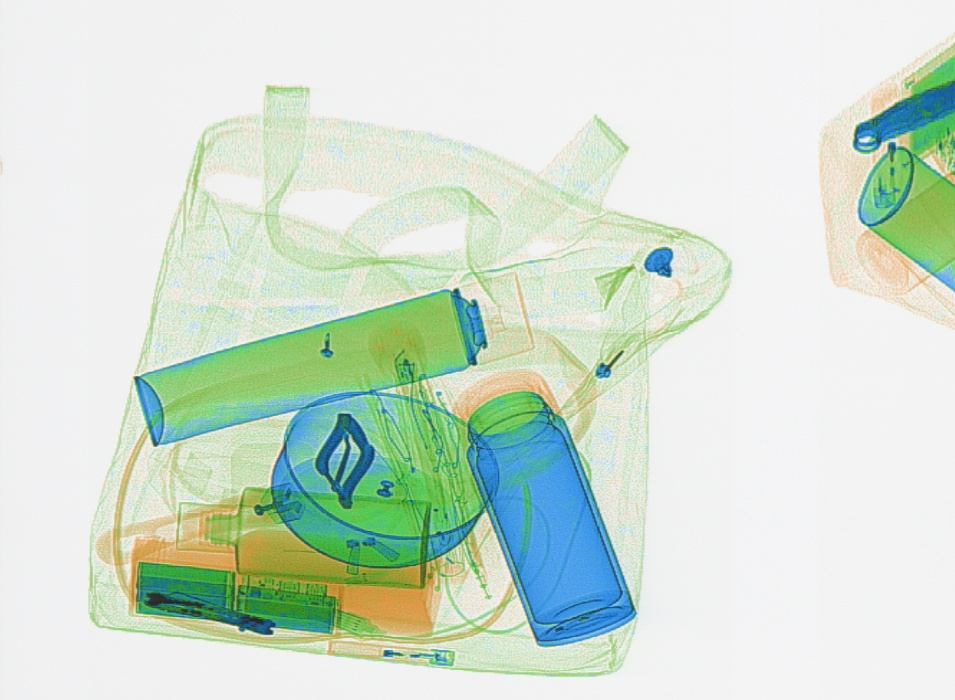knife: (849, 76, 952, 153), (141, 591, 278, 635)
lighter: (327, 637, 457, 666), (867, 96, 898, 210)
powerbank: (129, 558, 346, 640)
pressure: (129, 268, 535, 449), (854, 145, 952, 300)
